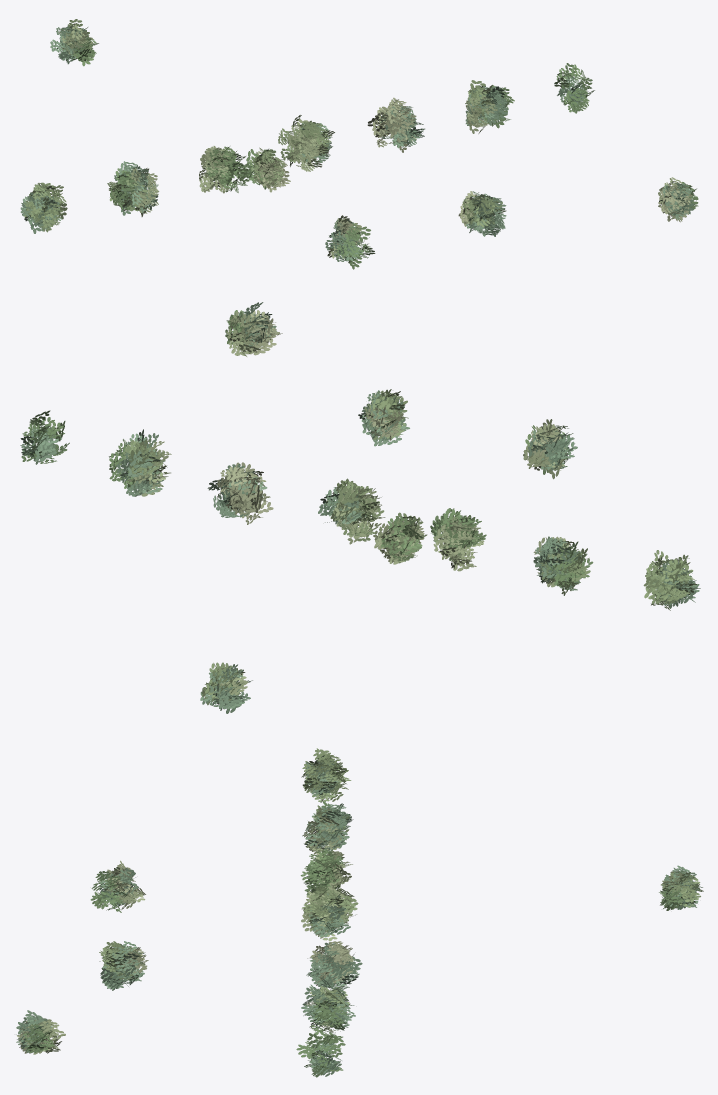
Rendered from campus-tree--5_-3-far.glb.
The picture shows the model from 3 angles, top to bottom: view 1: azimuth 30°, elevation 25°; view 2: azimuth 150°, elevation 25°; view 3: azimuth 270°, elevation 25°; orthographic projection. The views are drawn at different scales.
Parts seen in each view (by area): view 1: Campus leaf canopy; view 2: Campus leaf canopy; view 3: Campus leaf canopy.
Part boxes in pixels (x1=…): Campus leaf canopy: x1=20, y1=19, x2=698, y2=269; Campus leaf canopy: x1=20, y1=302, x2=700, y2=713; Campus leaf canopy: x1=16, y1=748, x2=703, y2=1077.
Bounding box in the file's own units: 72.27 × 8.11 × 73.12.
1 material, 1 textured.
